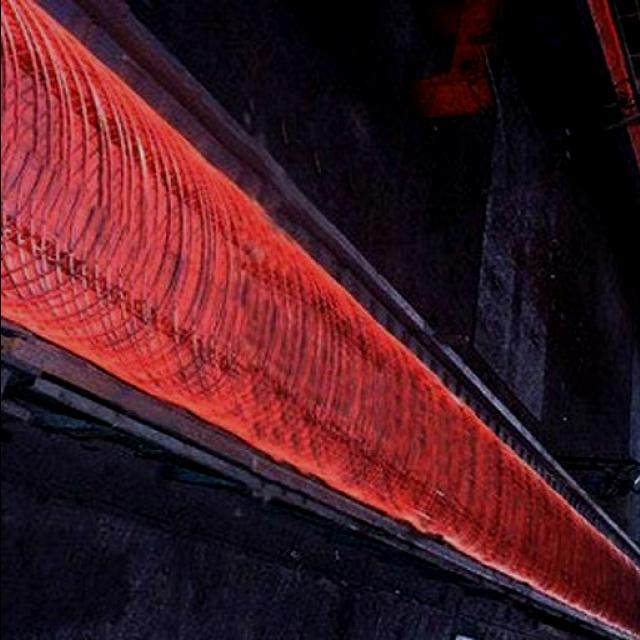conveyor: (0, 0, 639, 640)
